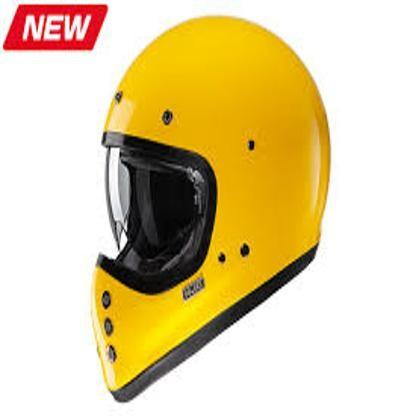not trash: (89, 17, 326, 403)
